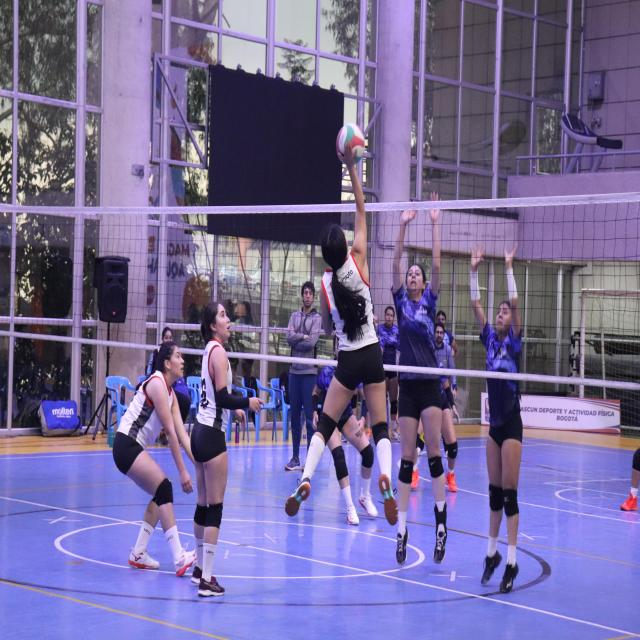volleyball: (336, 122, 365, 162)
